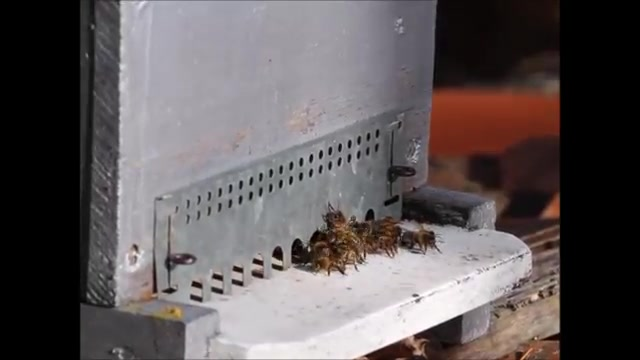bee: (309, 234, 330, 268), (337, 236, 366, 260), (323, 206, 352, 230), (402, 231, 439, 249), (374, 229, 397, 255)
